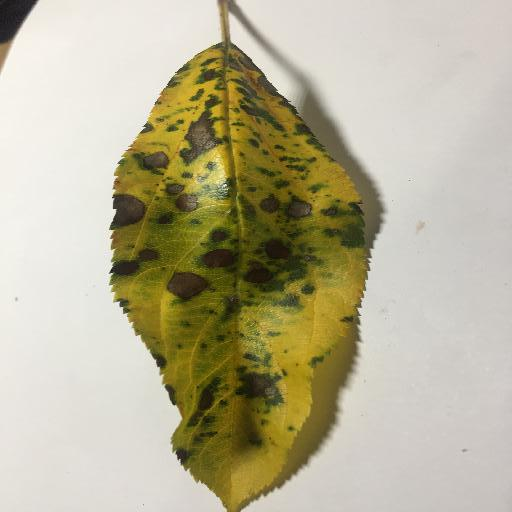Brown_Spot: (160, 189, 199, 224), (235, 374, 276, 403), (210, 228, 251, 253), (164, 273, 203, 298), (184, 122, 219, 148), (109, 199, 144, 222), (197, 248, 237, 267), (190, 387, 212, 418), (139, 152, 169, 174), (261, 197, 304, 211), (110, 259, 164, 269), (248, 262, 273, 282)
